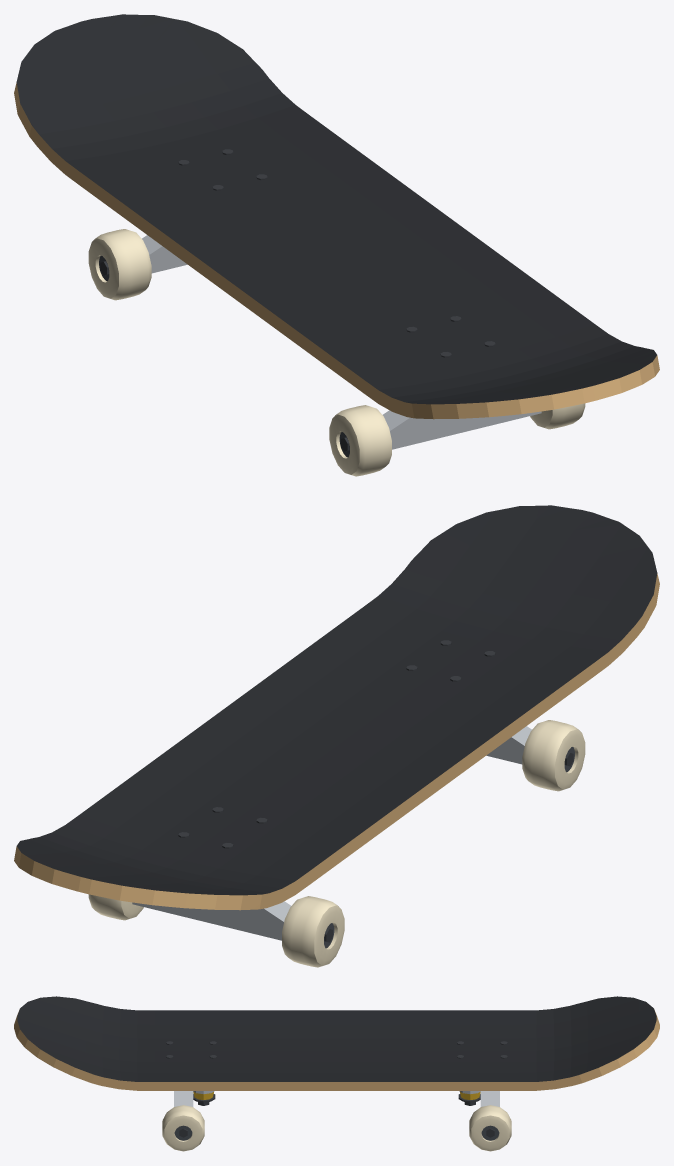
File: skateboard-CXlkW7g-.glb
The picture shows the model from 3 angles, top to bottom: view 1: azimuth 30°, elevation 25°; view 2: azimuth 150°, elevation 25°; view 3: azimuth 270°, elevation 25°; orthographic projection. The views are drawn at different scales.
Visible parts, largest first — view 1: deck, wheel-back-left, wheel-front-left, truck-front, truck-back, wheel-front-right; view 2: deck, wheel-front-left, wheel-back-left, truck-back, truck-front, wheel-back-right; view 3: deck, wheel-front-right, wheel-back-right, truck-front, truck-back.
Part boxes in pixels (box(x1,y1,x2,y2)): deck: box(14, 14, 659, 419); wheel-back-left: box(88, 229, 151, 300); wheel-front-left: box(329, 405, 391, 476); truck-front: box(341, 410, 541, 451); truck-back: box(100, 235, 187, 275); wheel-front-right: box(530, 403, 585, 429); deck: box(14, 505, 659, 910); wheel-front-left: box(522, 720, 585, 791); wheel-back-left: box(282, 896, 344, 967); truck-back: box(132, 901, 332, 942); truck-front: box(486, 726, 573, 766); wheel-back-right: box(88, 894, 143, 920); deck: box(14, 996, 659, 1090); wheel-front-right: box(162, 1105, 204, 1151); wheel-back-right: box(469, 1105, 511, 1151); truck-front: box(174, 1091, 215, 1137); truck-back: box(458, 1091, 499, 1137).
Size of the model in its own units: 0.21 by 0.1362 by 0.7998.
